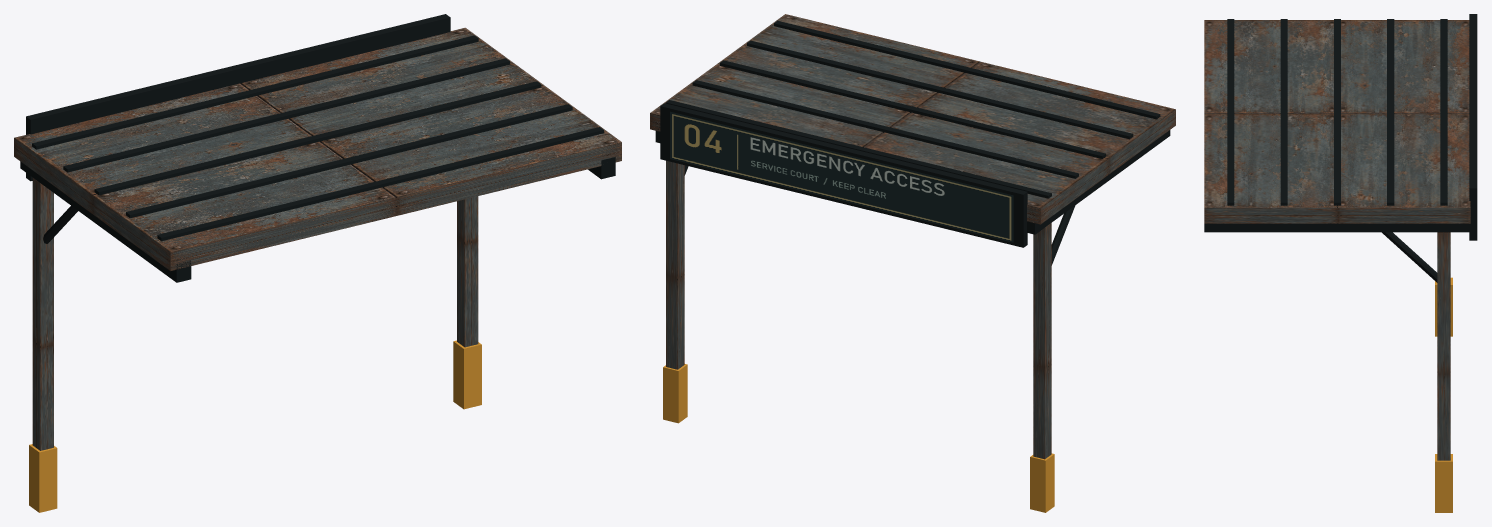
File: ExitCanopy.obj
3 renders of one model, left to right at view 1: azimuth 30°, elevation 25°; view 2: azimuth 150°, elevation 25°; view 3: azimuth 270°, elevation 25°, orthographic. The views are drawn at different scales.
Parts seen in each view (by area): view 1: ExitCanopy; view 2: ExitCanopy; view 3: ExitCanopy.
Part boxes in pixels (<box>): ExitCanopy: <box>14,14,621,512</box>; ExitCanopy: <box>650,14,1175,512</box>; ExitCanopy: <box>1204,14,1477,512</box>.
Bounding box in the file's own units: 5 × 3.97 × 3.08.
Materials: 4 (2 with a texture image).
